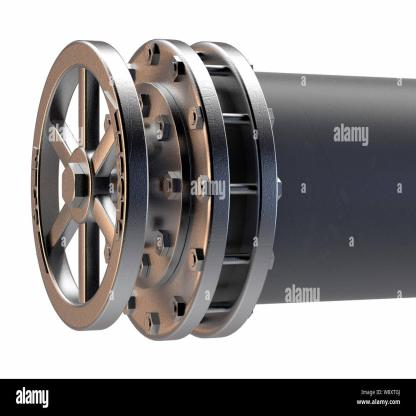PVC: (30, 39, 416, 340)
